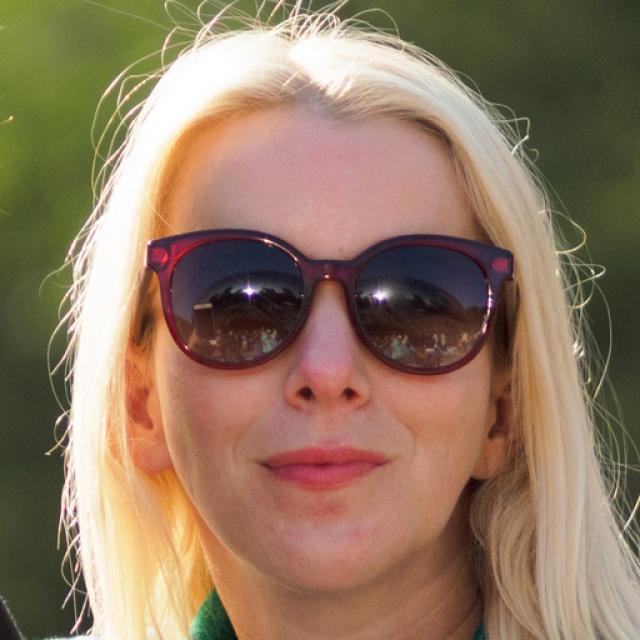content: (158, 106, 492, 592)
